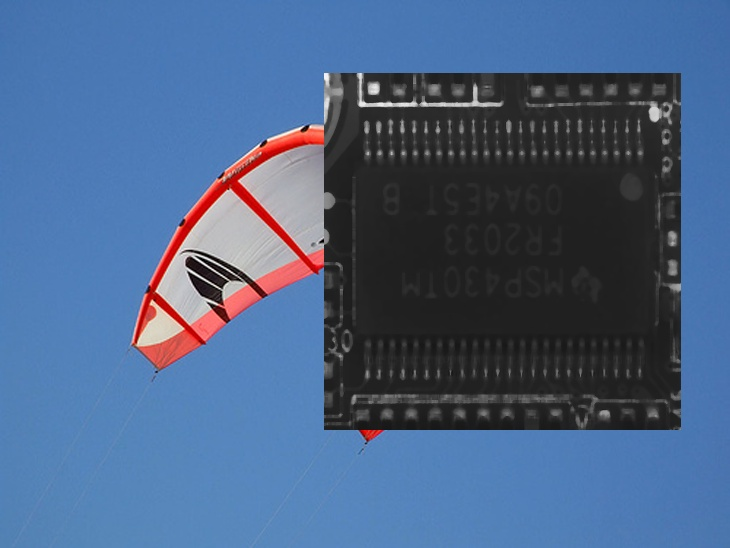PIN: (349, 318, 660, 387), (350, 111, 661, 179)
kite: (135, 125, 487, 448)
